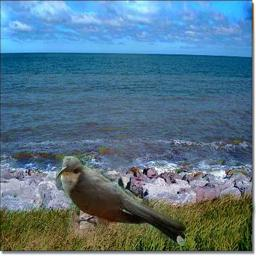Cuckoo: (56, 156, 186, 246)
